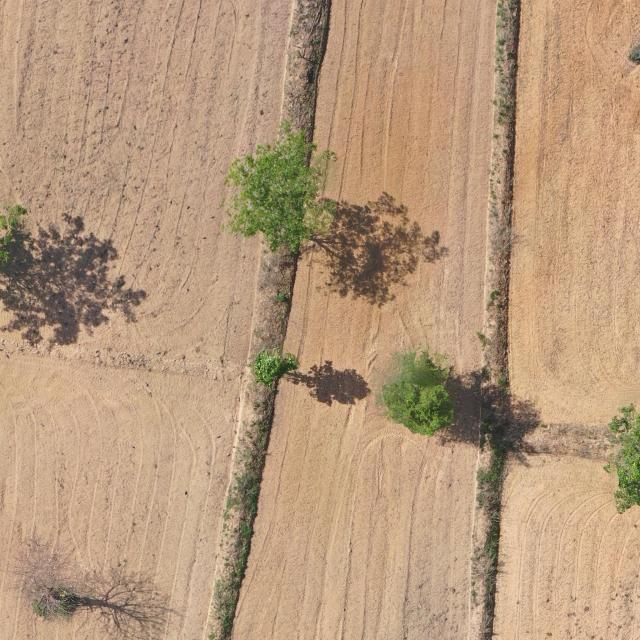Tree: (225, 118, 340, 258), (0, 524, 90, 626), (380, 351, 457, 438), (606, 402, 640, 514), (249, 348, 302, 388)
